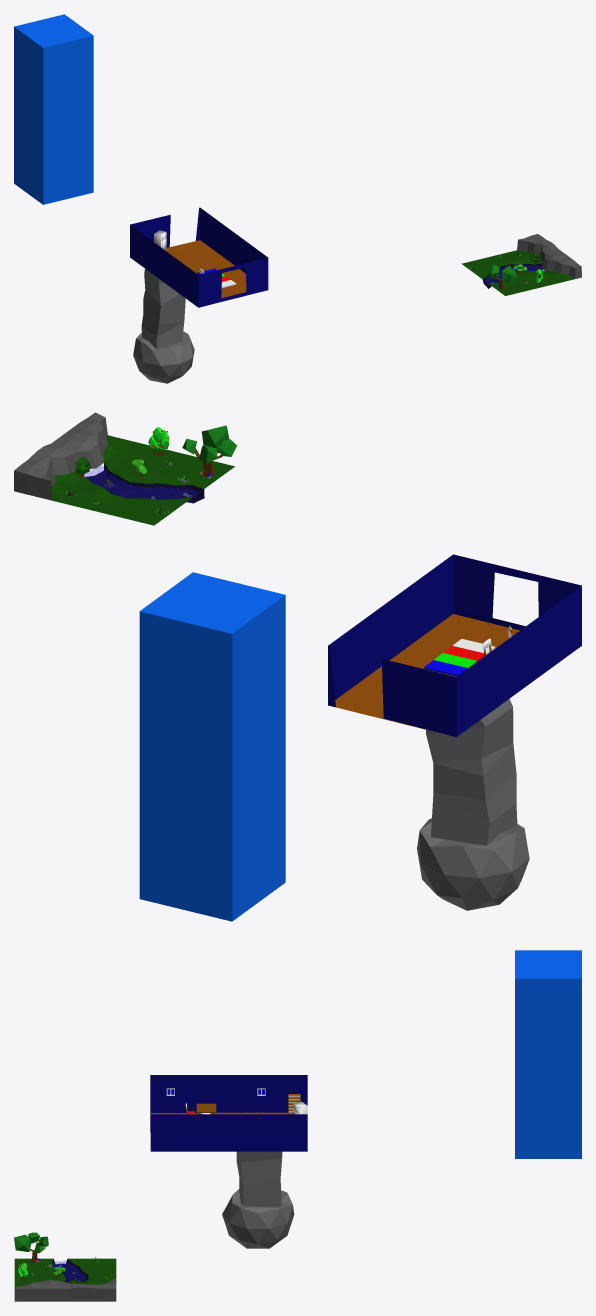
Rendered from threeJsScenePotatoPremium.glb.
3 views of the same model, one above another, from view 1: azimuth 30°, elevation 25°; view 2: azimuth 150°, elevation 25°; view 3: azimuth 270°, elevation 25° (orthographic). The views are drawn at different scales.
Parts seen in each view (by area): view 1: Experience and projects.002, Main Menu.002, Education.002, Skill island.002; view 2: Experience and projects.002, Main Menu.002, Education.002, Skill island.002, Window Small.001, Water, Tree.002; view 3: Experience and projects.002, Main Menu.002, Education.002, Skill island.002, Window Small.001, Tree.002.
Boxes of the visible parts, x1,y1,x2,y2 form: Experience and projects.002: (14,14,93,204); Main Menu.002: (130,207,268,307); Education.002: (133,269,194,383); Skill island.002: (461,234,581,295); Experience and projects.002: (139,572,285,921); Main Menu.002: (328,554,581,737); Education.002: (417,699,529,910); Skill island.002: (14,412,234,525); Window Small.001: (424,626,517,676); Water: (84,466,201,500); Tree.002: (182,425,236,477); Experience and projects.002: (515,950,581,1158); Main Menu.002: (150,1075,307,1151); Education.002: (222,1112,294,1248); Skill island.002: (14,1258,116,1301); Window Small.001: (166,1088,307,1114); Tree.002: (14,1232,48,1262).
Bounding box in the file's own units: 140 × 100 × 177.
Materials: 17 (2 with a texture image).
